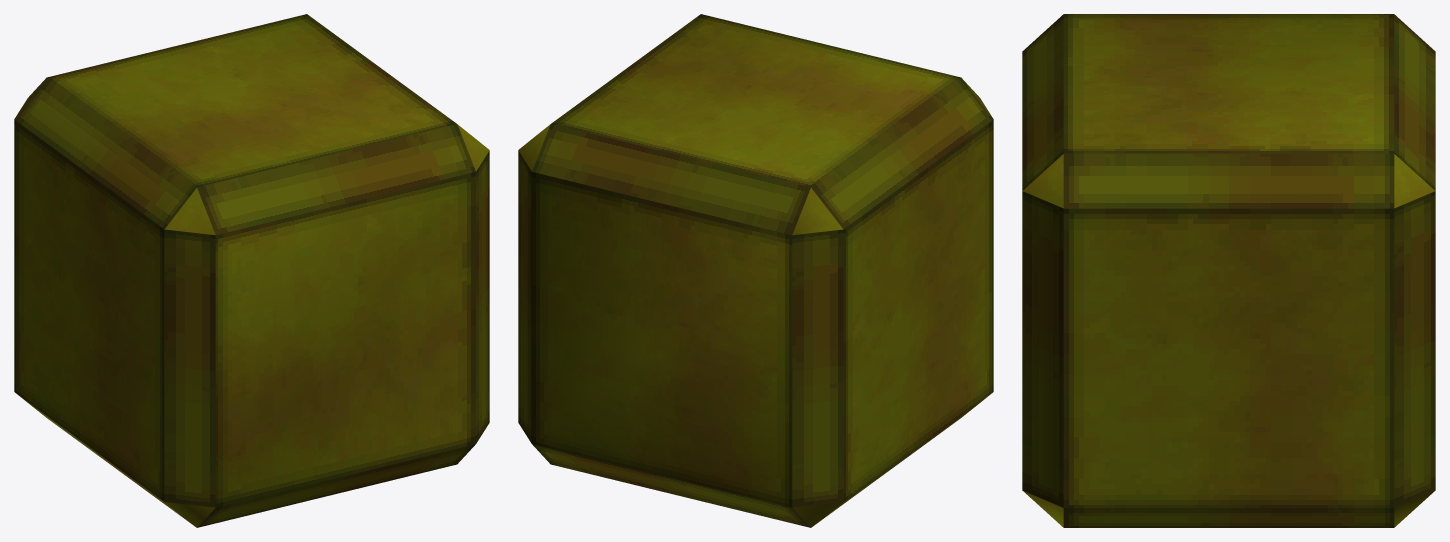
Rendered from mis_obj_reproblock_SD.obj.
3 renders of one model, left to right at view 1: azimuth 30°, elevation 25°; view 2: azimuth 150°, elevation 25°; view 3: azimuth 270°, elevation 25°, orthographic. The views are drawn at different scales.
Visible parts, largest first — view 1: polygon0; view 2: polygon0; view 3: polygon0.
Part boxes in pixels (x1,y1,x2,y2): polygon0: (14, 14, 489, 527); polygon0: (518, 14, 993, 527); polygon0: (1022, 14, 1435, 527).
Bounding box in the file's own units: 20 × 20 × 20.
Materials: 2 (2 with a texture image).
